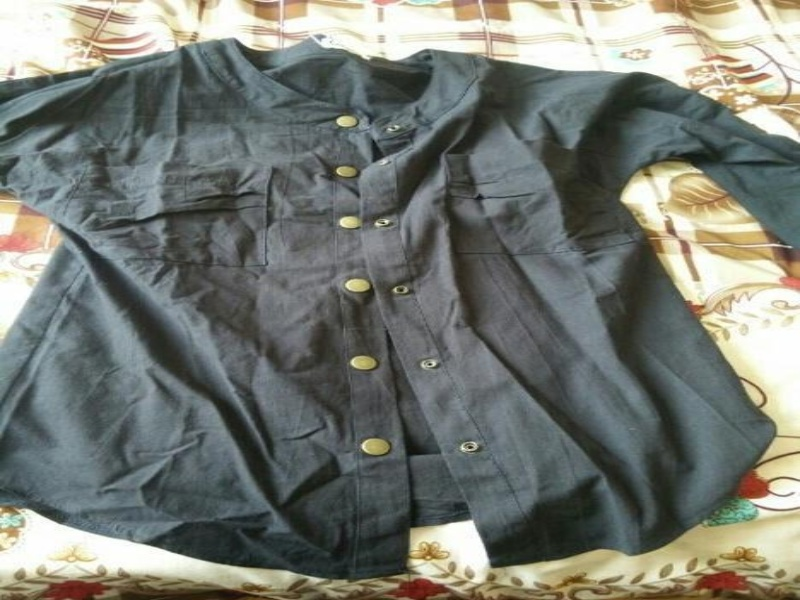long_sleeved_outwear: (0, 35, 798, 584)
